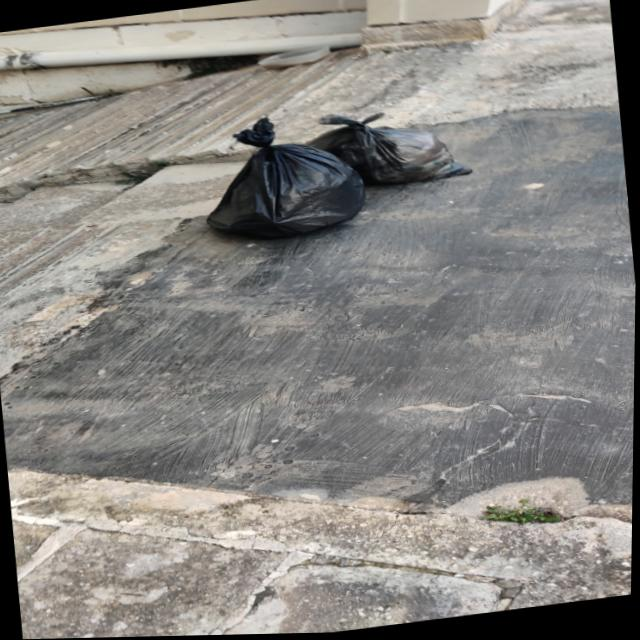Mixed Waste -Black Bags-: (212, 117, 476, 241)
